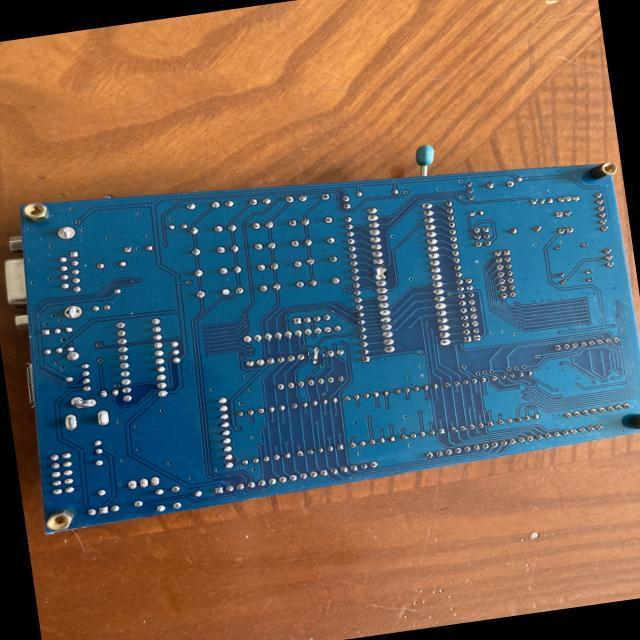damged: (307, 347, 325, 363), (372, 264, 388, 280)
